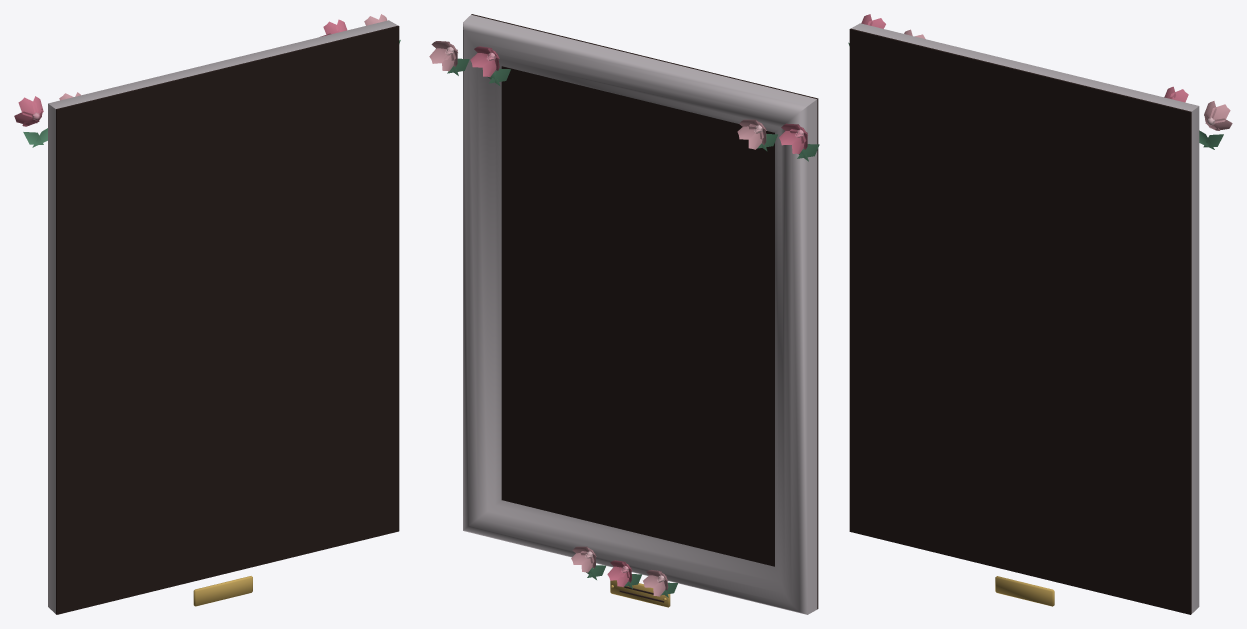
Rendered from pearl_roses_full.glb.
3 renders of one model, left to right at view 1: azimuth 30°, elevation 25°; view 2: azimuth 150°, elevation 25°; view 3: azimuth 330°, elevation 25°, orthographic.
Parts seen in each view (by area): view 1: pearl_roses_full; view 2: pearl_roses_full; view 3: pearl_roses_full.
Boxes of the visible parts, x1=… form: pearl_roses_full: x1=14, y1=14, x2=400, y2=614; pearl_roses_full: x1=429, y1=14, x2=819, y2=614; pearl_roses_full: x1=848, y1=14, x2=1232, y2=614.
Size of what is drawn, in the model's own units: 0.8987 by 1.22 by 0.1094.
